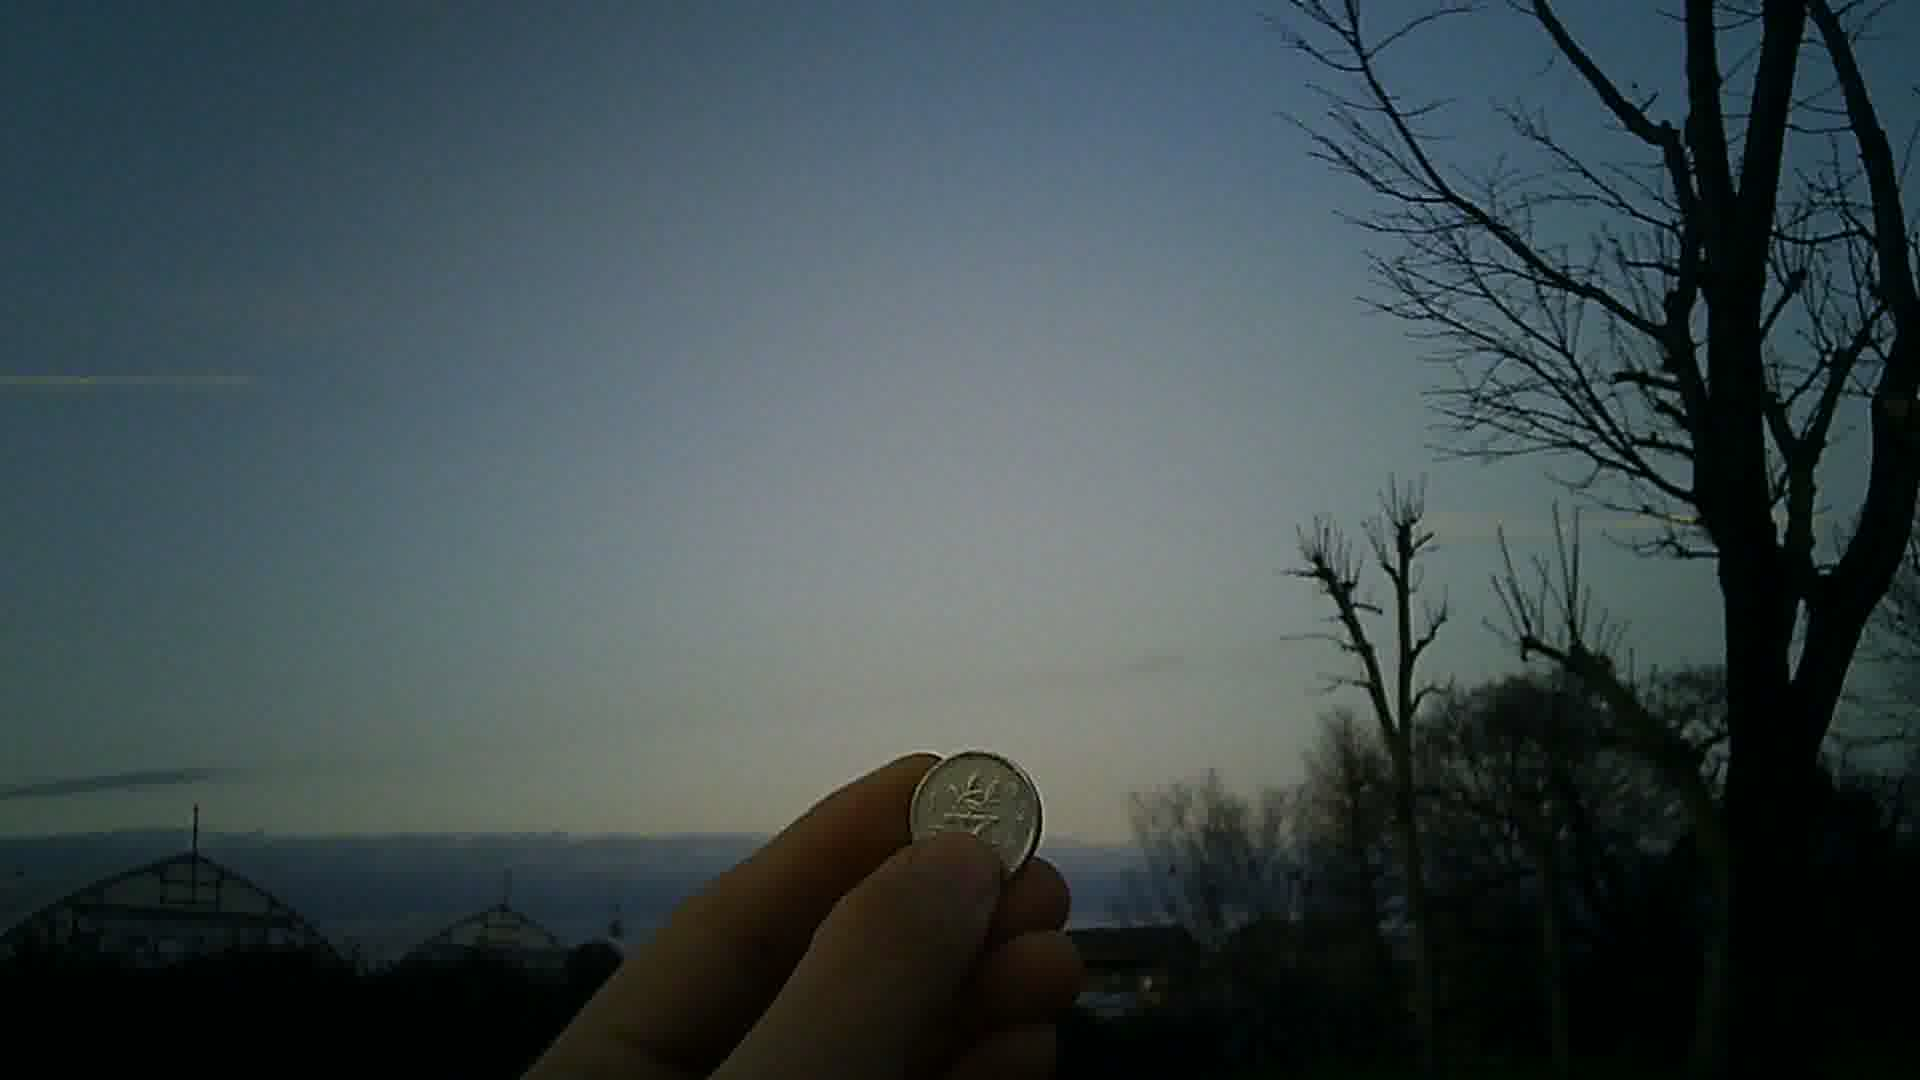1 Yen: (913, 746, 1046, 869)
